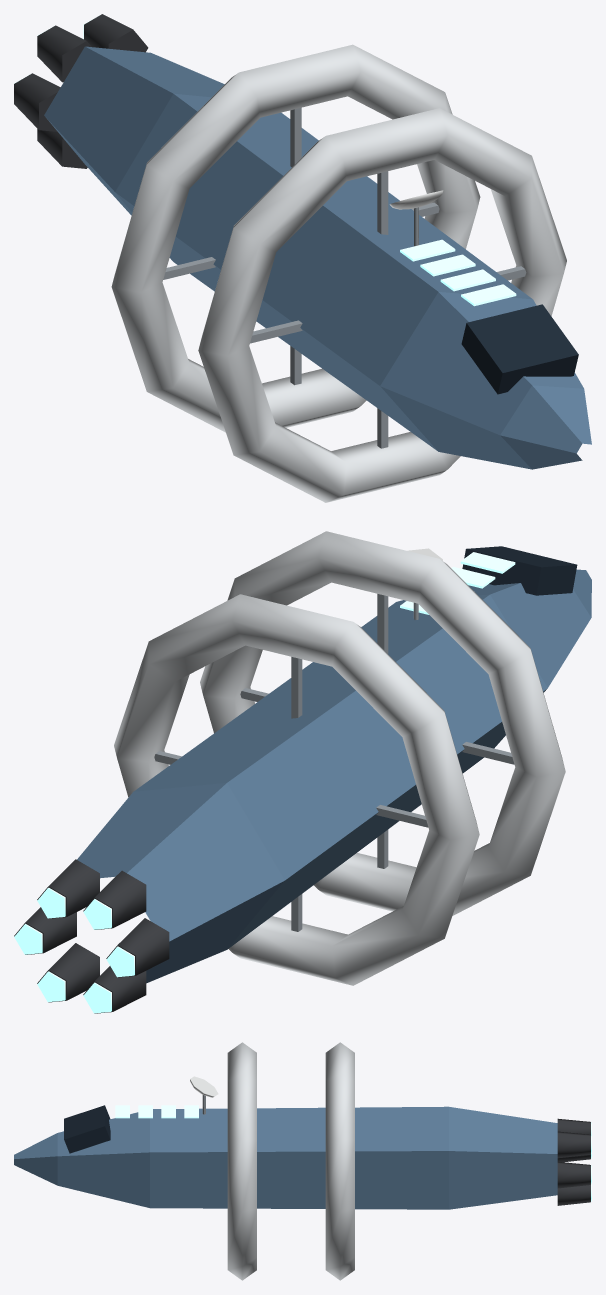
Rendered from space_ship_colony_transport_mk5_lod1.glb.
3 views of the same model, one above another, from view 1: azimuth 30°, elevation 25°; view 2: azimuth 150°, elevation 25°; view 3: azimuth 270°, elevation 25° (orthographic). The views are drawn at different scales.
Parts seen in each view (by area): view 1: body, habitat_ring_1, habitat_ring_0, engine_2, engine_3, engine_1, engine_4, antenna_0; view 2: body, habitat_ring_0, habitat_ring_1, engine_2, engine_3, engine_1, engine_5, engine_4, engine_0; view 3: body, habitat_ring_0, habitat_ring_1, engine_0, engine_1, engine_5, engine_2, antenna_0.
Boxes of the visible parts, x1,y1,x2,y2 form: body: [44, 46, 591, 469]; habitat_ring_1: [198, 108, 566, 502]; habitat_ring_0: [111, 44, 480, 432]; engine_2: [37, 25, 91, 82]; engine_3: [14, 73, 60, 131]; engine_1: [83, 14, 148, 52]; engine_4: [37, 129, 87, 168]; antenna_0: [389, 190, 443, 246]; body: [77, 546, 591, 983]; habitat_ring_0: [114, 594, 479, 985]; habitat_ring_1: [200, 531, 565, 915]; engine_2: [83, 870, 146, 929]; engine_3: [106, 918, 169, 977]; engine_1: [37, 859, 99, 918]; engine_5: [37, 943, 99, 1002]; engine_4: [83, 966, 146, 1013]; engine_0: [14, 907, 76, 954]; body: [14, 1105, 557, 1209]; habitat_ring_0: [325, 1042, 354, 1280]; habitat_ring_1: [227, 1042, 256, 1280]; engine_0: [557, 1162, 591, 1188]; engine_1: [557, 1131, 591, 1158]; engine_5: [557, 1184, 591, 1205]; engine_2: [557, 1118, 591, 1135]; antenna_0: [190, 1076, 218, 1114].
Bounding box in the file's own units: 26.16 × 24.88 × 62.92.
